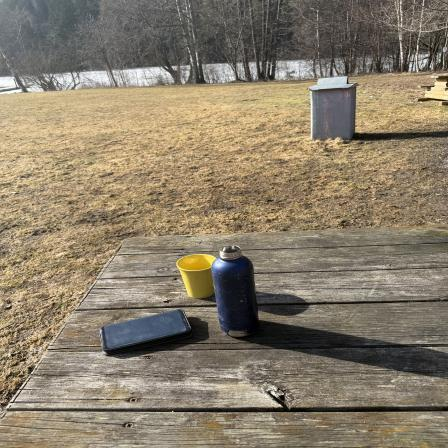blue_bottle: (213, 248, 262, 337)
phone: (103, 312, 192, 350)
yellow_cup: (180, 252, 215, 299)
